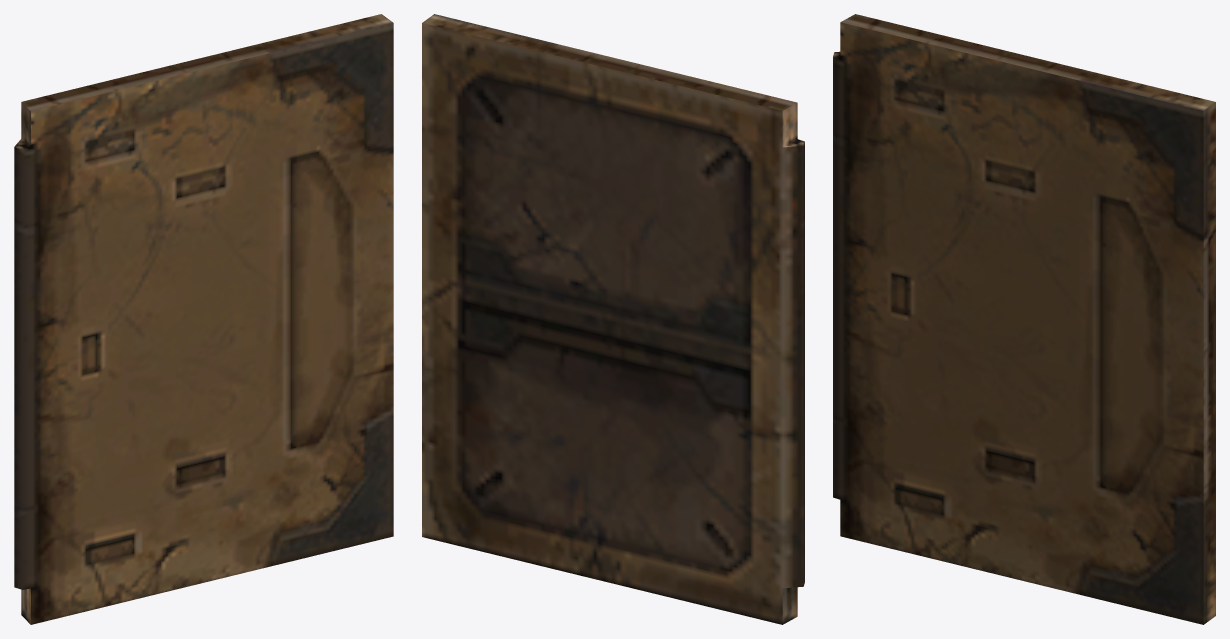
The model's file is computer_case_hatch.DAE.
3 views of the same model, side by side, from view 1: azimuth 30°, elevation 25°; view 2: azimuth 150°, elevation 25°; view 3: azimuth 330°, elevation 25° (orthographic).
Parts seen in each view (by area): view 1: computer_case_hatch; view 2: computer_case_hatch; view 3: computer_case_hatch.
Part boxes in pixels (bbox=[...]): computer_case_hatch: bbox=[14, 14, 393, 624]; computer_case_hatch: bbox=[422, 14, 804, 624]; computer_case_hatch: bbox=[833, 14, 1215, 624].
Size of the model in its own units: 0.5018 by 0.0284 by 0.6579.
